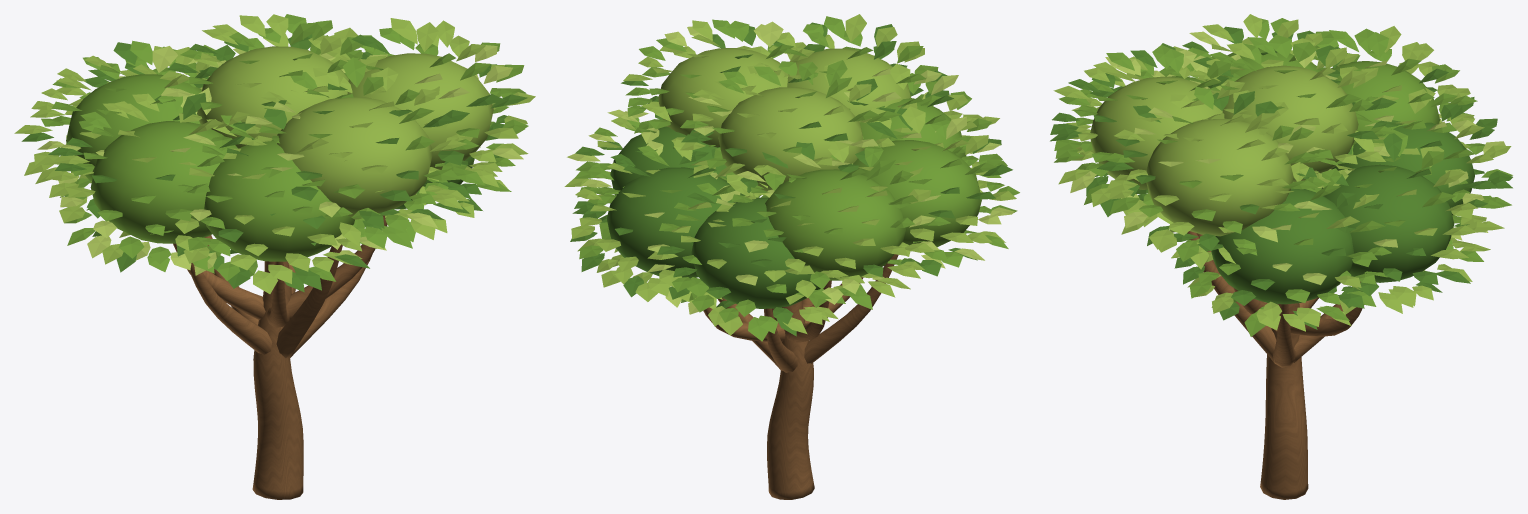
Rendered from tree.glb.
3 renders of one model, left to right at view 1: azimuth 30°, elevation 25°; view 2: azimuth 150°, elevation 25°; view 3: azimuth 270°, elevation 25°, orthographic. The views are drawn at different scales.
Visible parts, largest first — view 1: tree; view 2: tree; view 3: tree.
Boxes of the visible parts, <box> form: tree: <box>14,14,535,499</box>; tree: <box>564,14,1019,499</box>; tree: <box>1050,14,1512,499</box>.
Bounding box in the file's own units: 5.19 × 4.98 × 4.81.
Materials: 5 (1 with a texture image).
